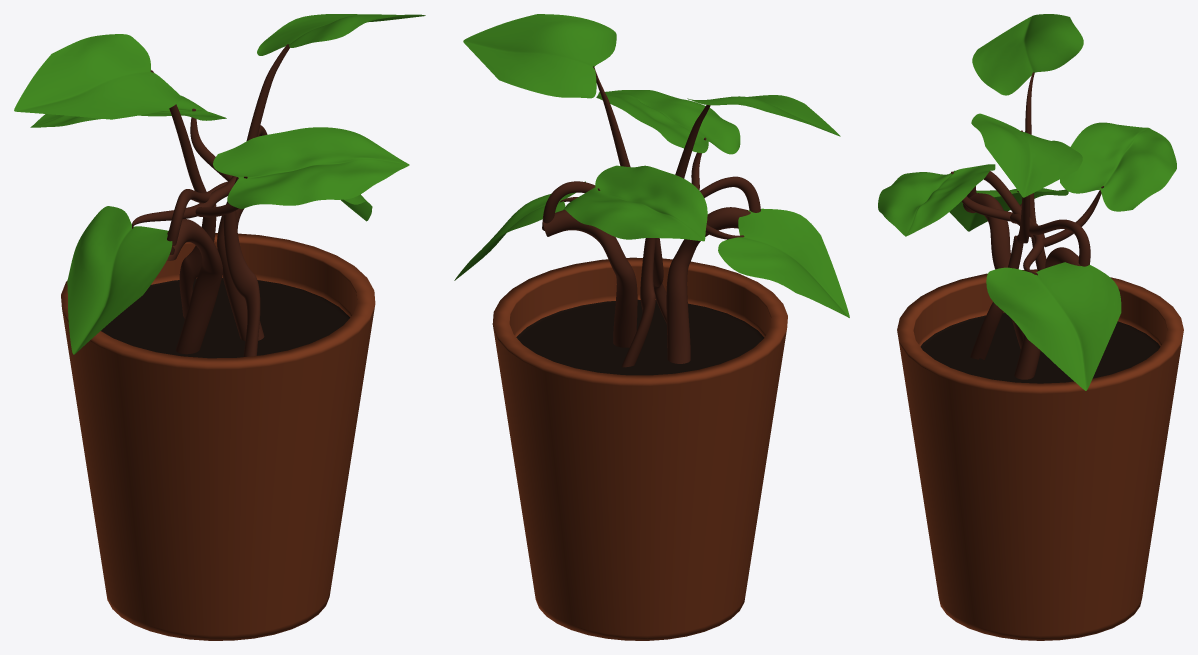
File: pianta.fbx
3 views of the same model, side by side, from view 1: azimuth 30°, elevation 25°; view 2: azimuth 150°, elevation 25°; view 3: azimuth 270°, elevation 25° (orthographic). The views are drawn at different scales.
Parts seen in each view (by area): view 1: pianta.001; view 2: pianta.001; view 3: pianta.001.
Boxes of the visible parts, left/top/right/bottom form: pianta.001: left=14, top=14, right=425, bottom=640; pianta.001: left=454, top=14, right=849, bottom=640; pianta.001: left=878, top=14, right=1183, bottom=640.
Size of the model in its own units: 97.36 by 130 by 69.7.
